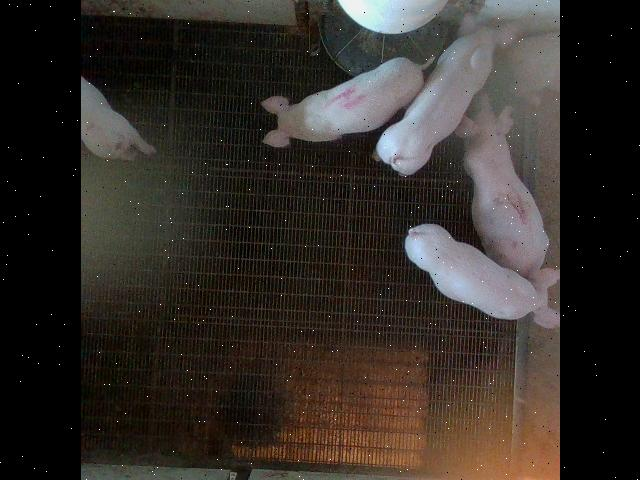pig-1: (454, 95, 548, 280)
pig-4: (260, 58, 432, 148)
